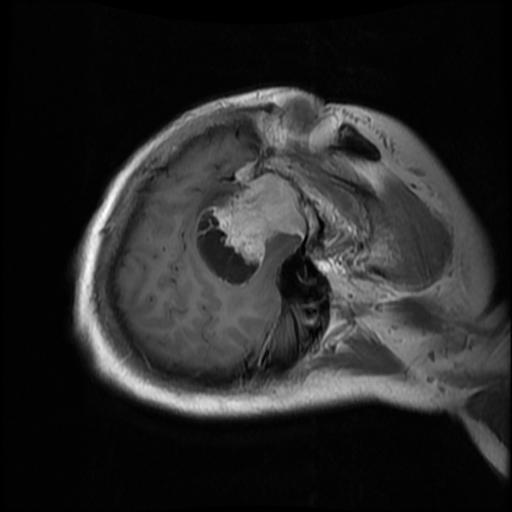meningioma: (213, 161, 307, 262)
